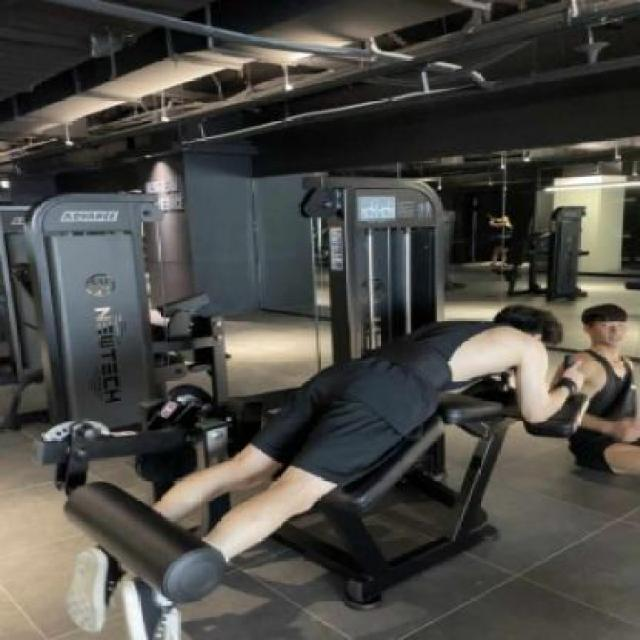reg curl machine: (31, 172, 595, 640)
